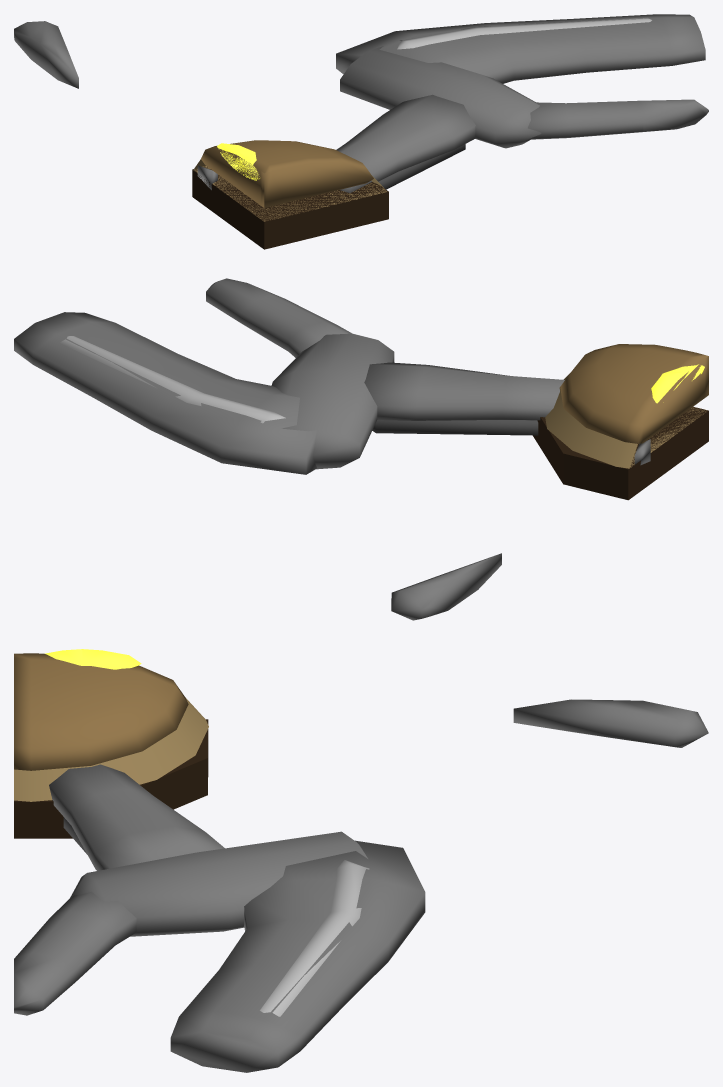
File: newsh-hash-3-f2.glb
3 views of the same model, one above another, from view 1: azimuth 30°, elevation 25°; view 2: azimuth 150°, elevation 25°; view 3: azimuth 270°, elevation 25° (orthographic). The views are drawn at different scales.
Parts seen in each view (by area): view 1: newsh-hash-3-f2; view 2: newsh-hash-3-f2; view 3: newsh-hash-3-f2.
Part boxes in pixels (x1,y1,x2,y2): newsh-hash-3-f2: [14, 14, 708, 249]; newsh-hash-3-f2: [14, 278, 708, 620]; newsh-hash-3-f2: [14, 649, 708, 1072].
Bounding box in the file's own units: 1.98 × 0.289 × 1.69.
